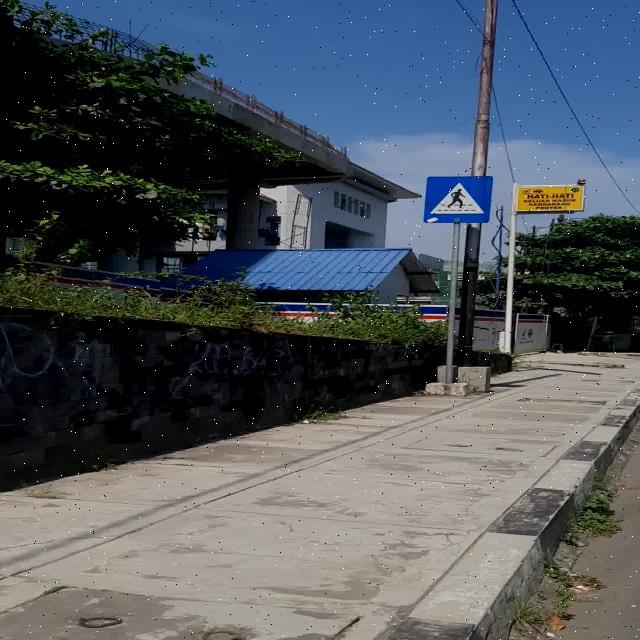Perintah Jalur Penyebrangan: (424, 176, 493, 223)
